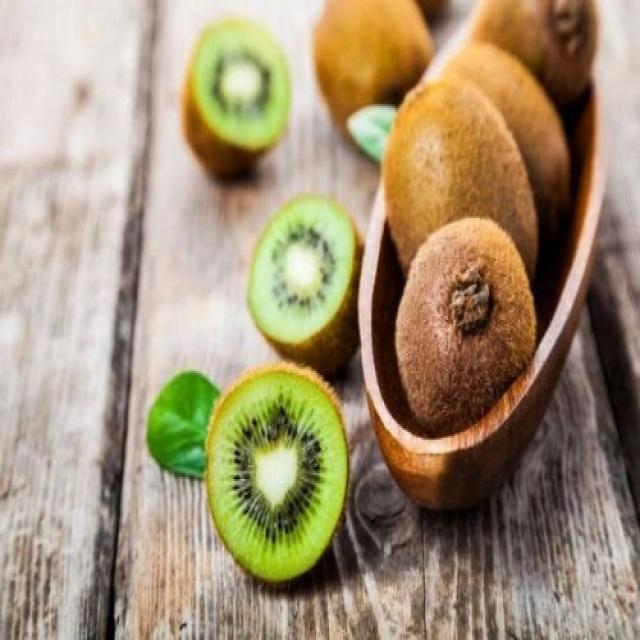Chilli Pepper: (372, 82, 539, 346), (198, 364, 349, 596), (394, 222, 536, 452), (244, 194, 362, 375), (309, 0, 432, 155), (180, 20, 294, 173)
